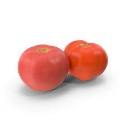tomato: (19, 44, 69, 90), (65, 40, 108, 81)
